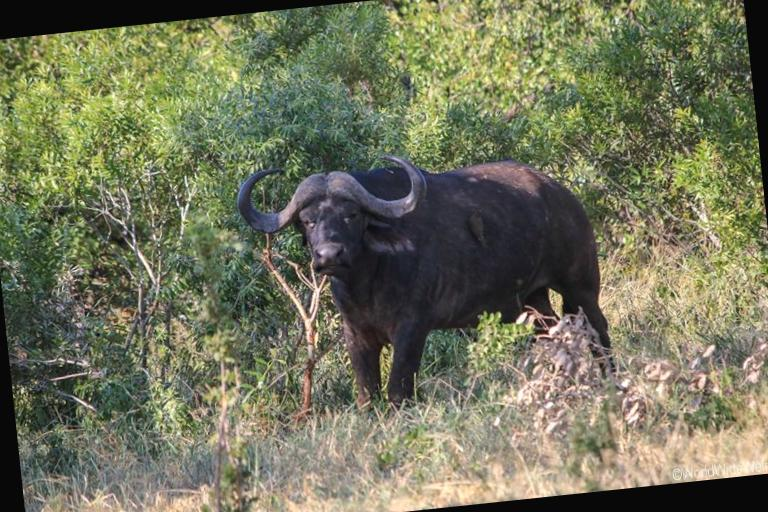Buffalo: (219, 94, 625, 400)
